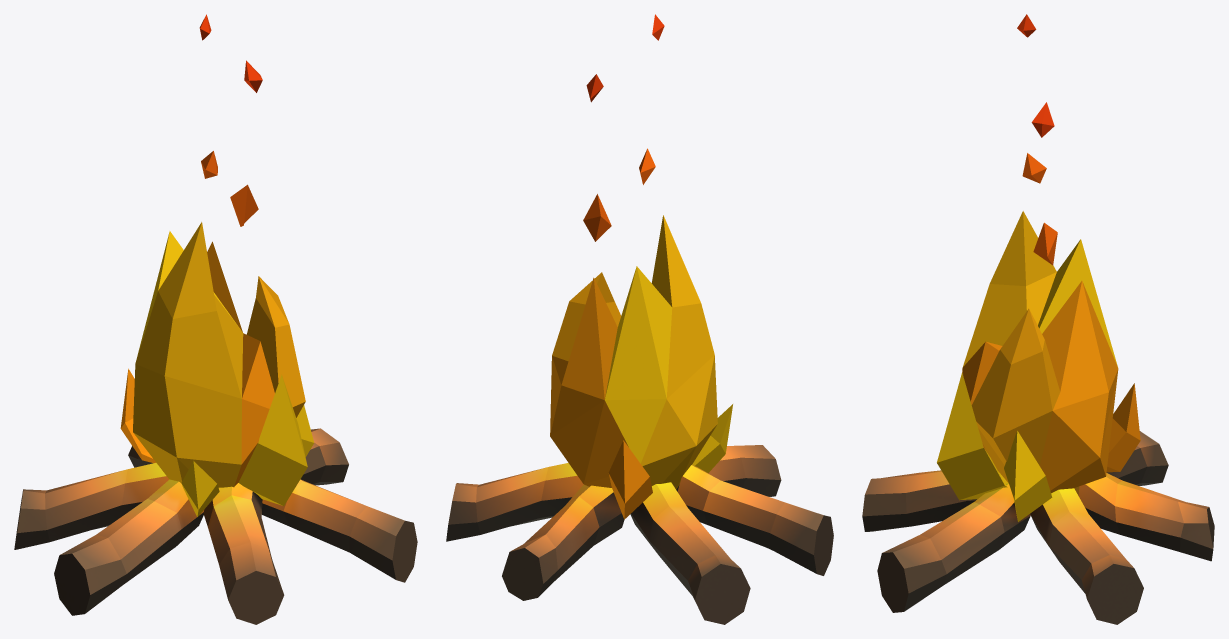
File: Campfire.glb
The picture shows the model from 3 angles, left to right: view 1: azimuth 30°, elevation 25°; view 2: azimuth 150°, elevation 25°; view 3: azimuth 270°, elevation 25°; orthographic projection. The views are drawn at different scales.
Parts seen in each view (by area): view 1: campfire; view 2: campfire; view 3: campfire.
Boxes of the visible parts, x1,y1,x2,y2 form: campfire: (14,14,417,624); campfire: (446,14,833,624); campfire: (862,14,1214,624).
Bounding box in the file's own units: 1.68 × 2.67 × 1.59.
Materials: 1 (1 with a texture image).
